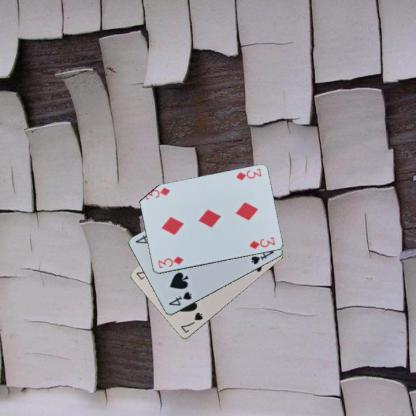3d: (233, 166, 262, 182), (156, 254, 184, 269)
4s: (166, 289, 193, 308)
7s: (178, 310, 204, 334)
